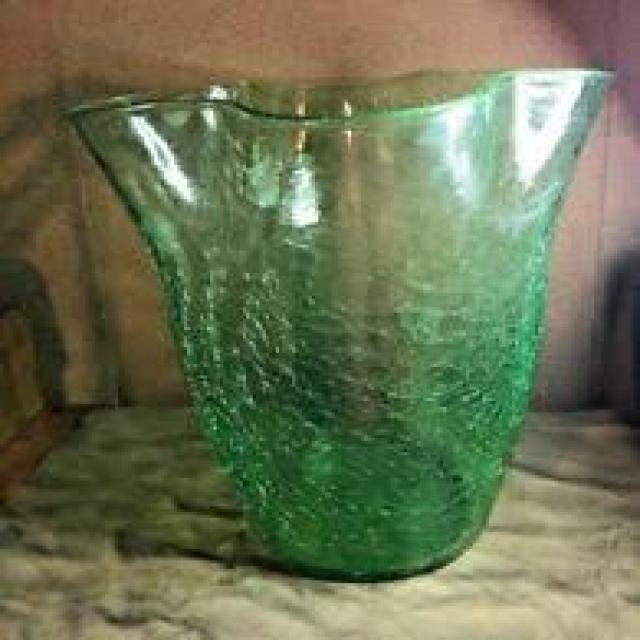glass: (59, 66, 611, 583)
